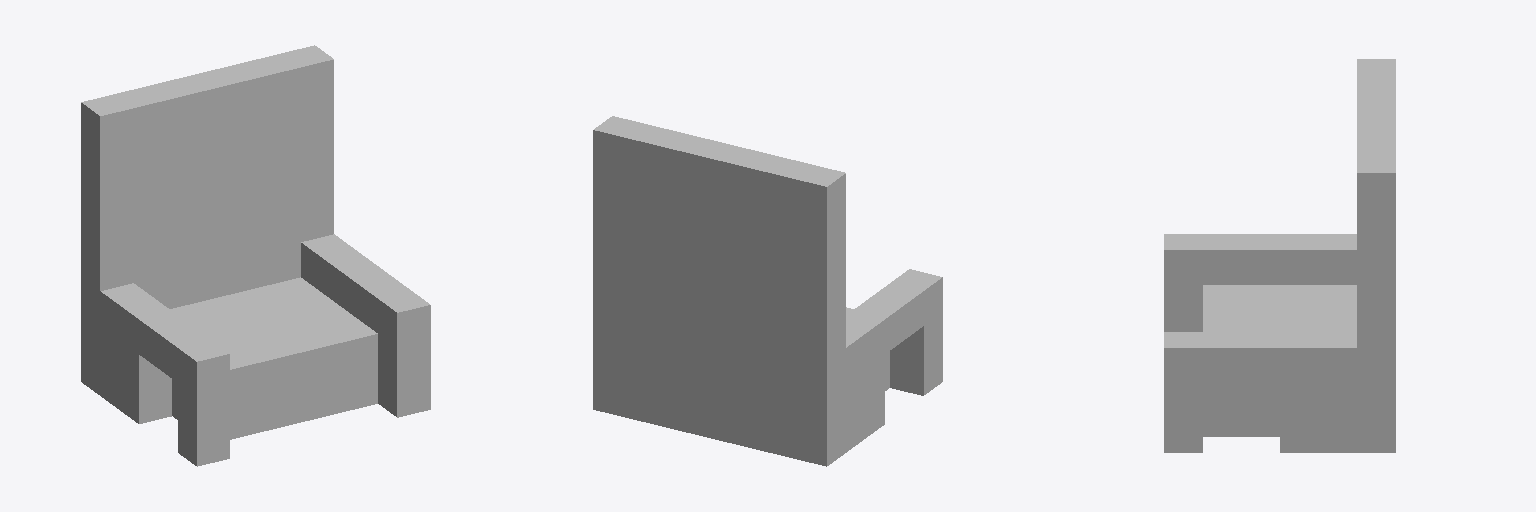
File: Chair_V1.obj
3 views of the same model, side by side, from view 1: azimuth 30°, elevation 25°; view 2: azimuth 150°, elevation 25°; view 3: azimuth 270°, elevation 25° (orthographic).
Visible parts, largest first — view 1: Brown Seat; view 2: Brown Seat; view 3: Brown Seat.
Boxes of the visible parts, box(x1,y1,x2,y2) form: Brown Seat: box(81, 45, 430, 466); Brown Seat: box(593, 116, 942, 466); Brown Seat: box(1164, 59, 1395, 452).
Size of the model in its own units: 7 by 8 by 6.